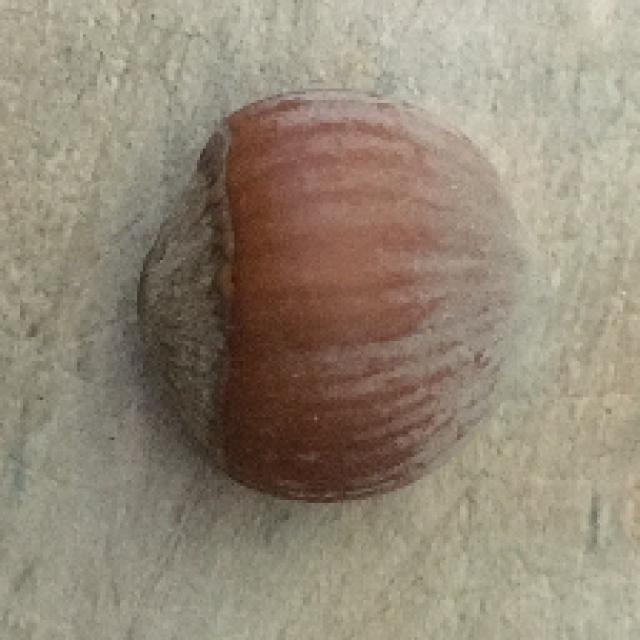qualityHazelnut: (139, 94, 543, 498)
